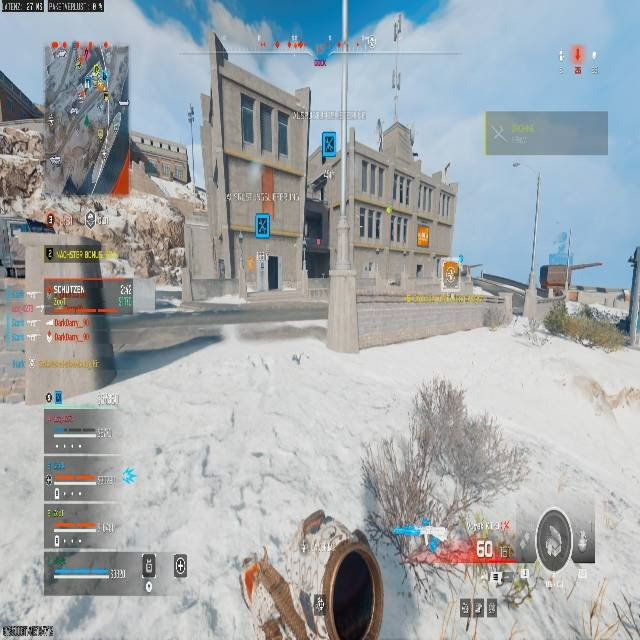player: (252, 207, 271, 240)
